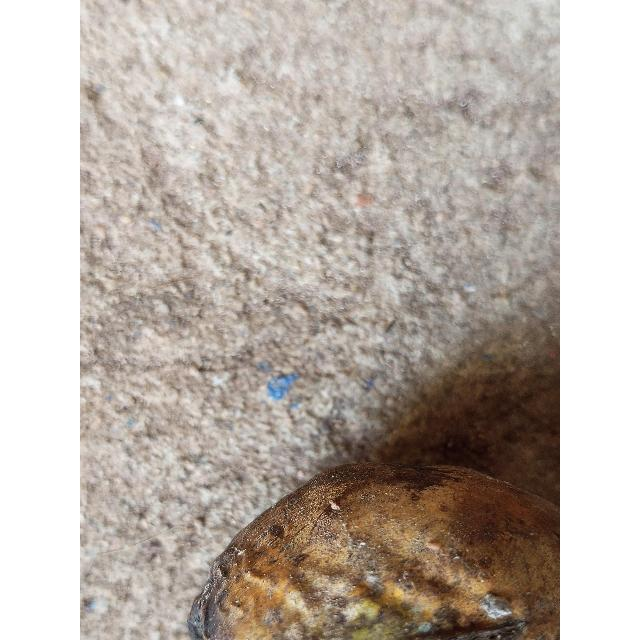damaged: (187, 462, 560, 640)
